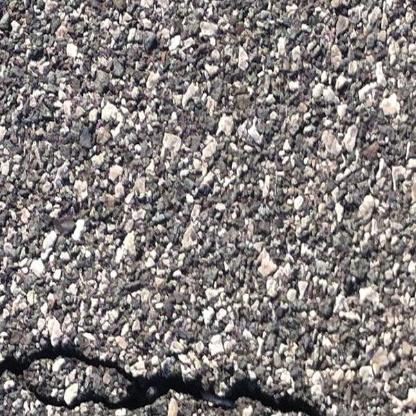Cracks: (0, 335, 373, 416)
